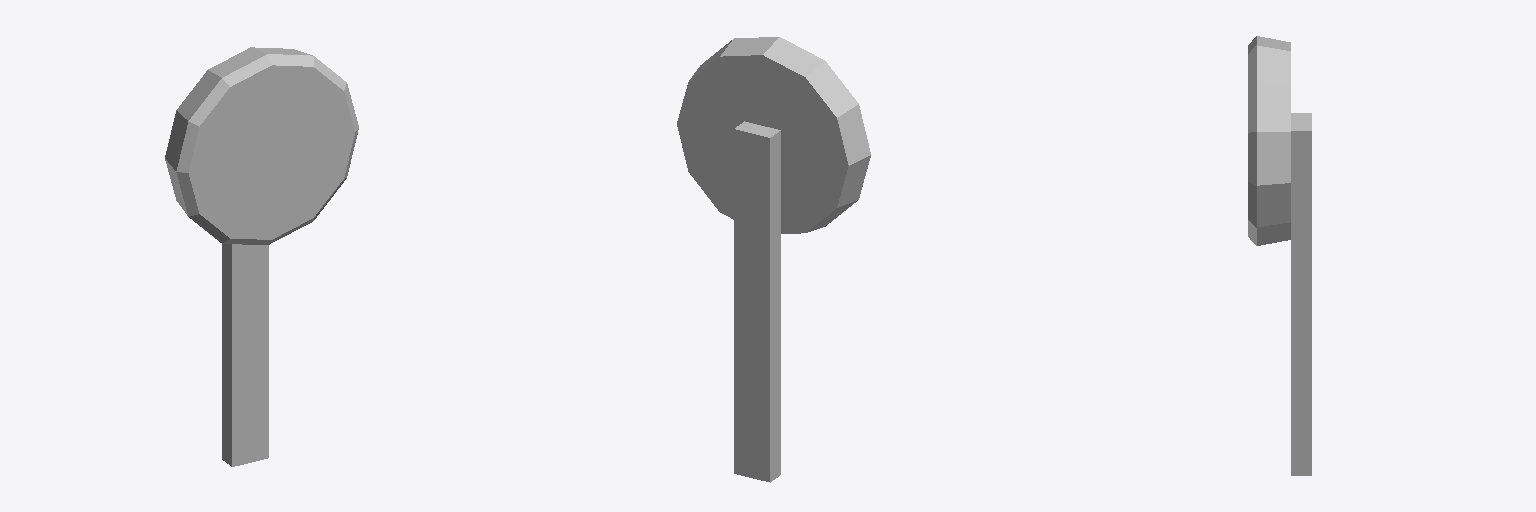
Rendered from target_small.obj.
3 views of the same model, side by side, from view 1: azimuth 30°, elevation 25°; view 2: azimuth 150°, elevation 25°; view 3: azimuth 270°, elevation 25° (orthographic).
Visible parts, largest first — view 1: target_small_Cube.16109; view 2: target_small_Cube.16109; view 3: target_small_Cube.16109.
Boxes of the visible parts, x1=… form: target_small_Cube.16109: x1=165, y1=47, x2=358, y2=466; target_small_Cube.16109: x1=677, y1=37, x2=870, y2=482; target_small_Cube.16109: x1=1248, y1=36, x2=1311, y2=475.
Size of the model in its own units: 0.5 by 1.1 by 0.15.